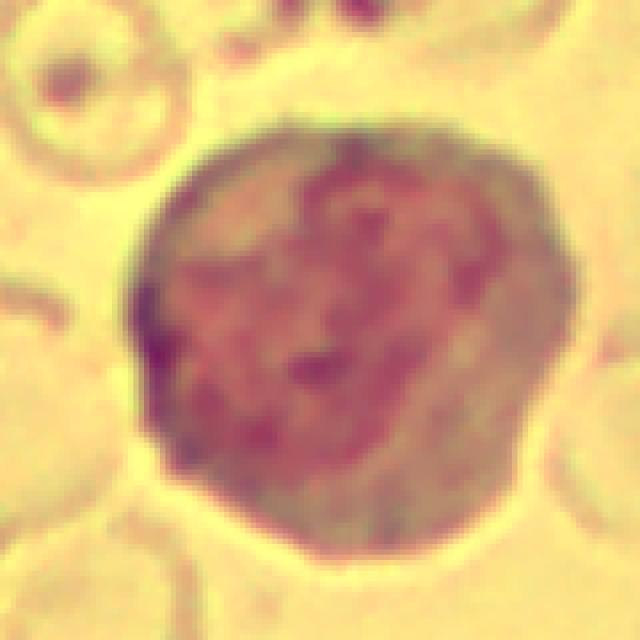WBC: (123, 101, 592, 592)
